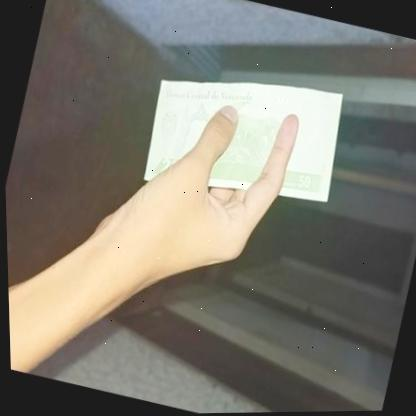fifty-back-vef: (136, 51, 353, 226)
